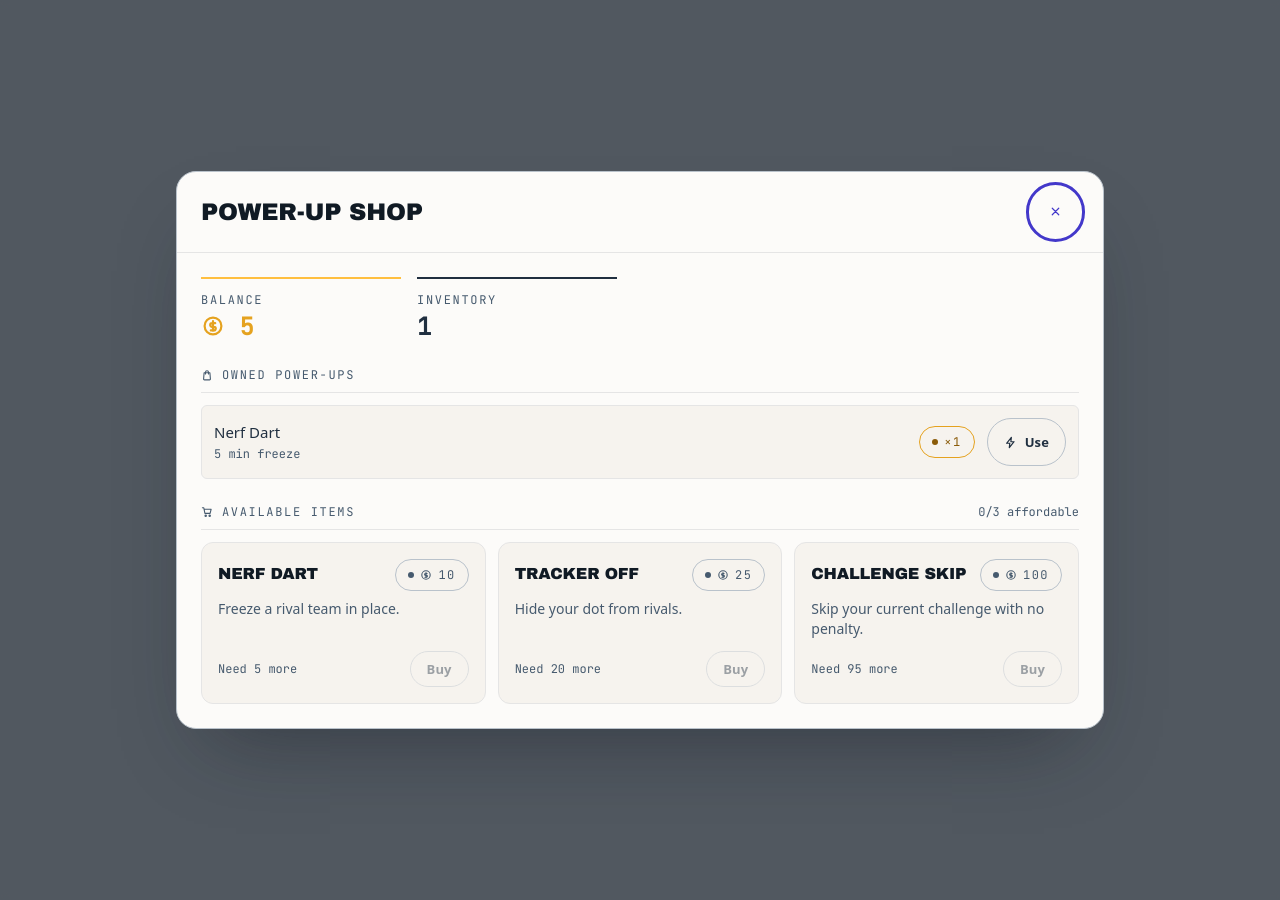
ShopPanel nerf targeting › returns to the shop without using the dart when cancelled
Click the button "Use". click: [1026, 442]
box: [987, 418, 1066, 466]
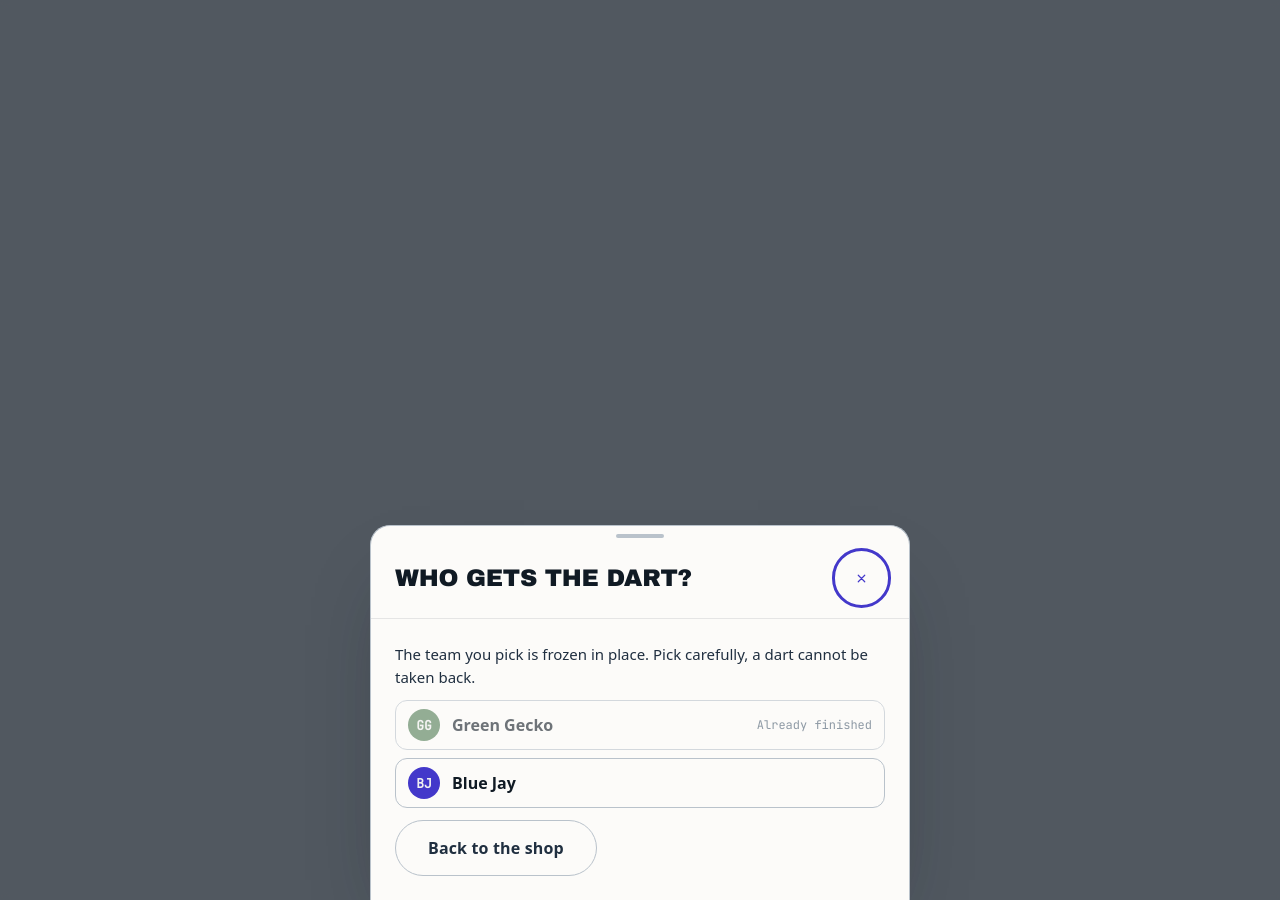
Click the button "Back to the shop". click: [496, 848]
box: [395, 820, 597, 876]
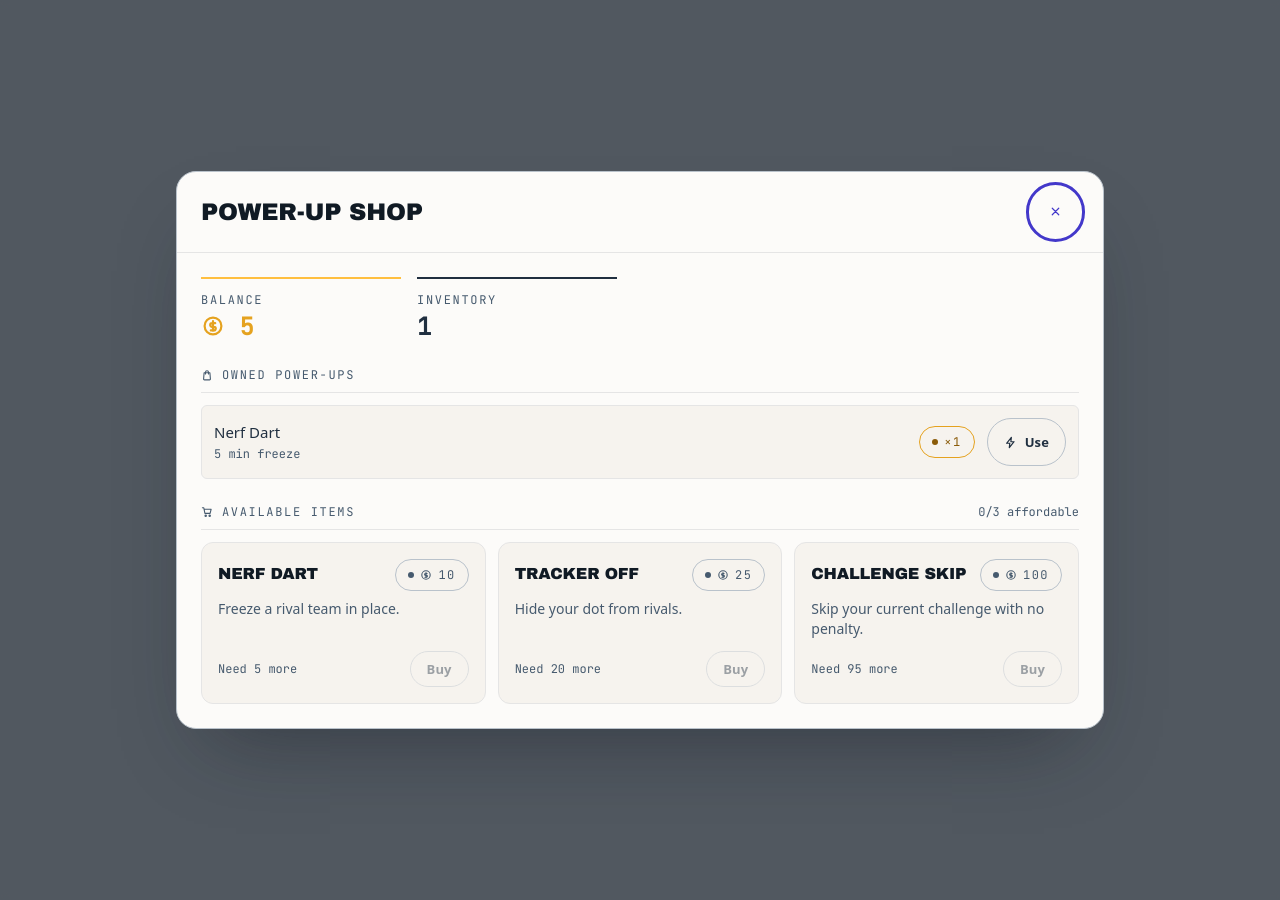
Expected: the heading "Owned power-ups" is shown, [201, 366, 355, 384]
